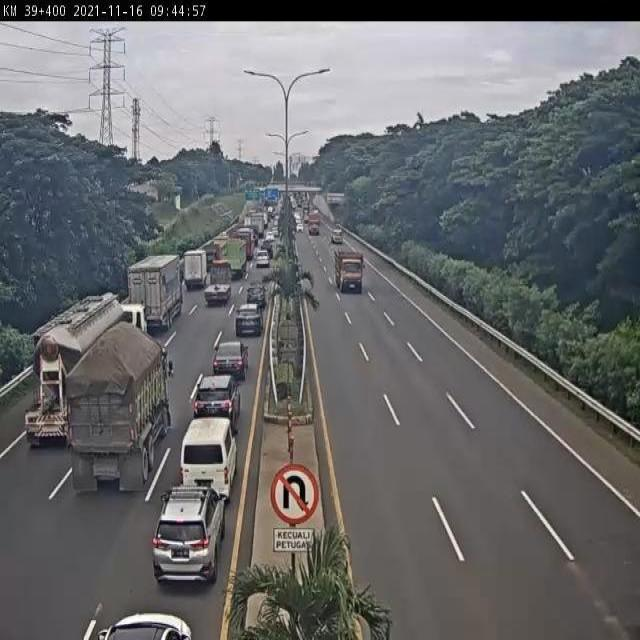Car: (152, 483, 229, 592), (94, 610, 194, 638), (192, 373, 242, 428), (211, 340, 249, 380), (235, 304, 263, 337), (246, 282, 266, 308), (260, 238, 274, 258), (256, 251, 270, 268)
Truck: (70, 324, 174, 496), (127, 253, 183, 332), (204, 261, 232, 307), (335, 250, 364, 292), (182, 248, 208, 290)
Van: (179, 415, 238, 498)
